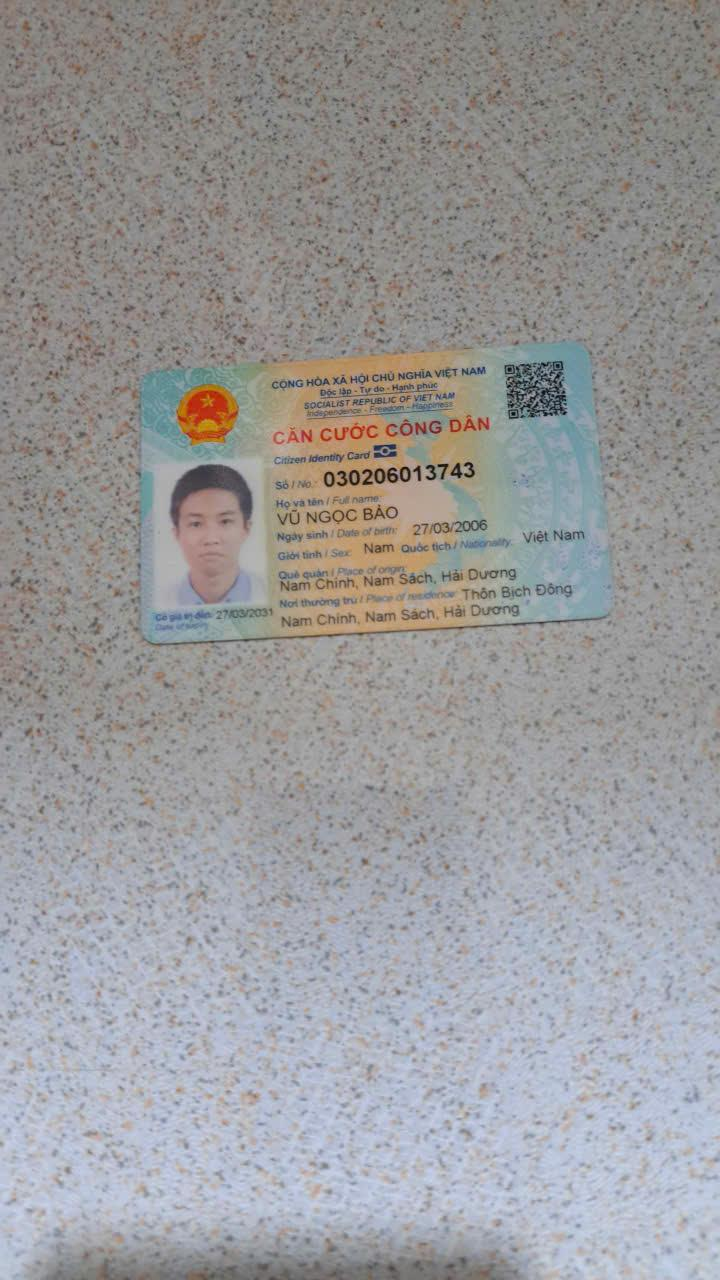cccd: (105, 330, 628, 661)
